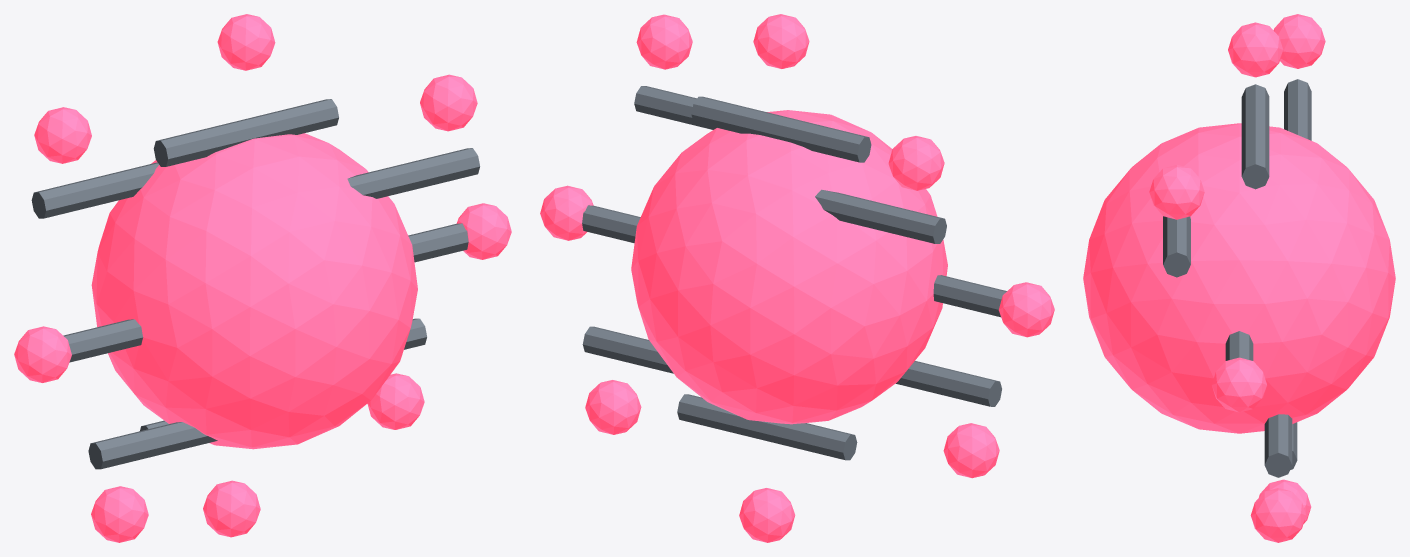
File: virus_02.glb
3 renders of one model, left to right at view 1: azimuth 30°, elevation 25°; view 2: azimuth 150°, elevation 25°; view 3: azimuth 270°, elevation 25°, orthographic. The views are drawn at different scales.
Parts seen in each view (by area): view 1: virus_core, world, tendril2, tendril1, tendril3, tendril5, tendril4, tendril0; view 2: virus_core, world, tendril2, tendril6, tendril3, tendril5, tendril7, tendril4, tendril1, tendril0; view 3: virus_core, world, tendril2, tendril7, tendril1, tendril3, tendril0.
Part boxes in pixels (x1,y1,x2,y2): virus_core: (91,133,417,449); world: (14,14,511,542); tendril2: (153,99,338,166); tendril1: (347,148,480,198); tendril3: (31,162,159,218); tendril5: (88,422,217,469); tendril4: (63,319,143,362); tendril0: (408,223,468,262); virus_core: (631,110,947,424); world: (540,14,1054,542); tendril2: (691,96,871,162); tendril6: (677,394,857,460); tendril3: (815,189,946,243); tendril5: (896,361,1001,406); tendril7: (582,326,673,373); tendril4: (933,275,1006,317); tendril1: (634,86,716,129); tendril0: (582,205,640,243); virus_core: (1083,123,1395,433); world: (1149,14,1325,542); tendril2: (1241,84,1269,189); tendril7: (1264,414,1292,477); tendril1: (1163,216,1190,277); tendril3: (1284,79,1311,140); tendril0: (1225,331,1253,360).
Bounding box in the file's own units: 2.22 × 2.22 × 1.24.
